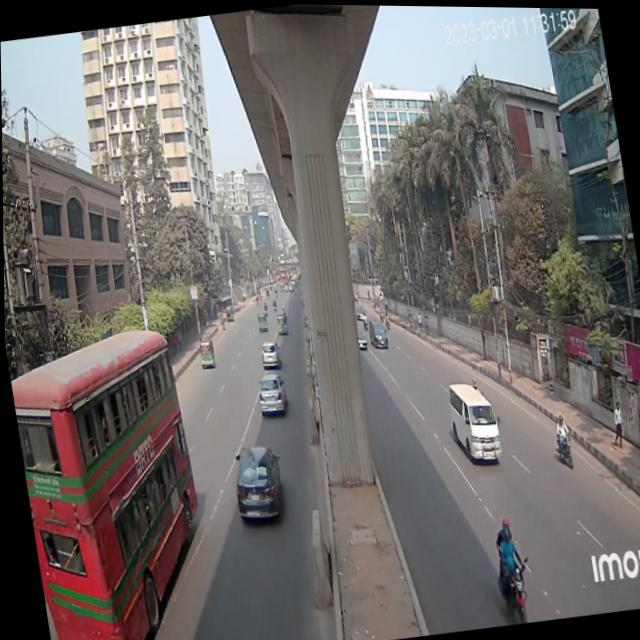cng: (194, 333, 217, 375), (255, 306, 270, 338), (274, 311, 289, 342)
